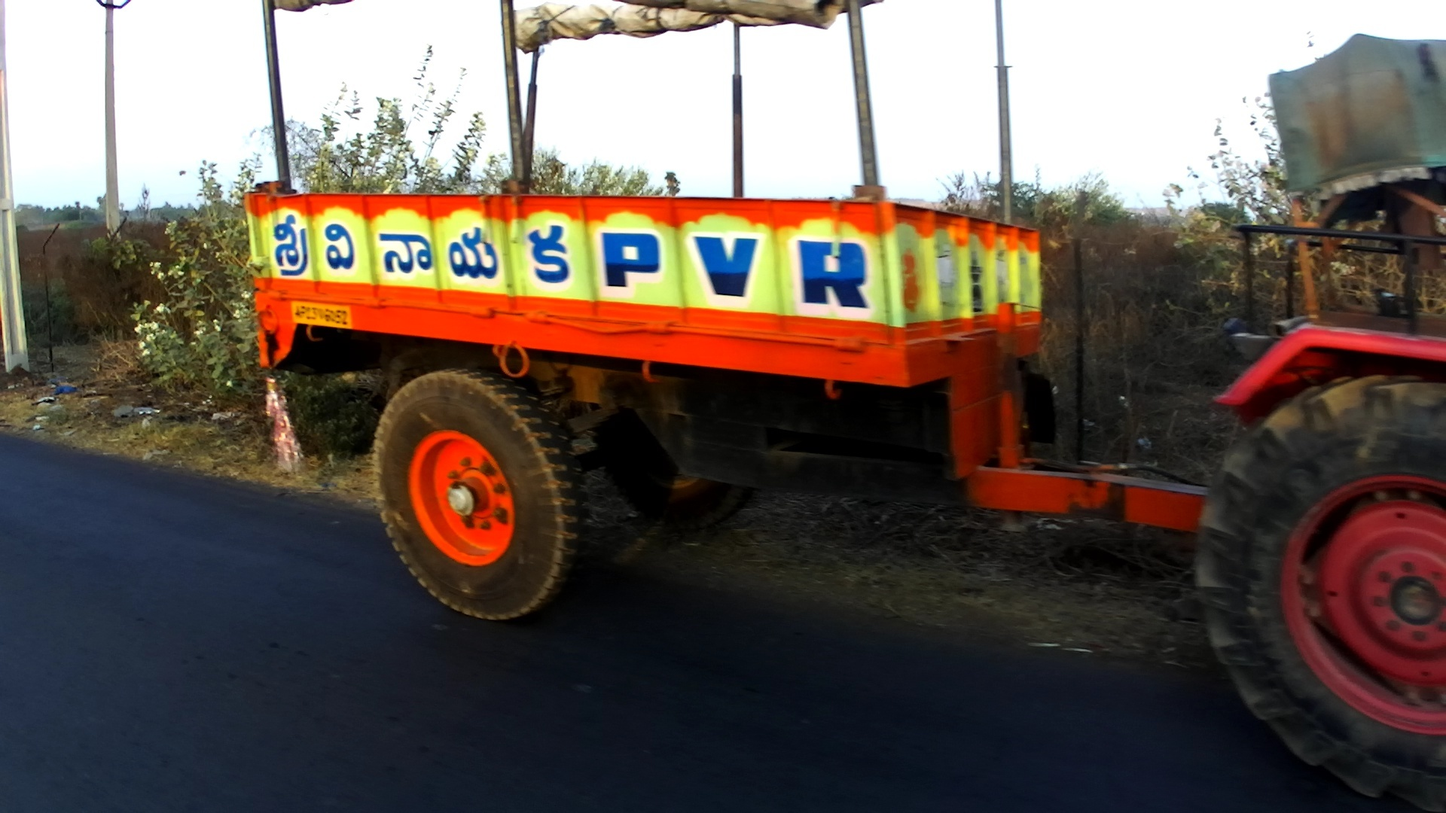vehicle fallback: (243, 1, 1446, 813)
